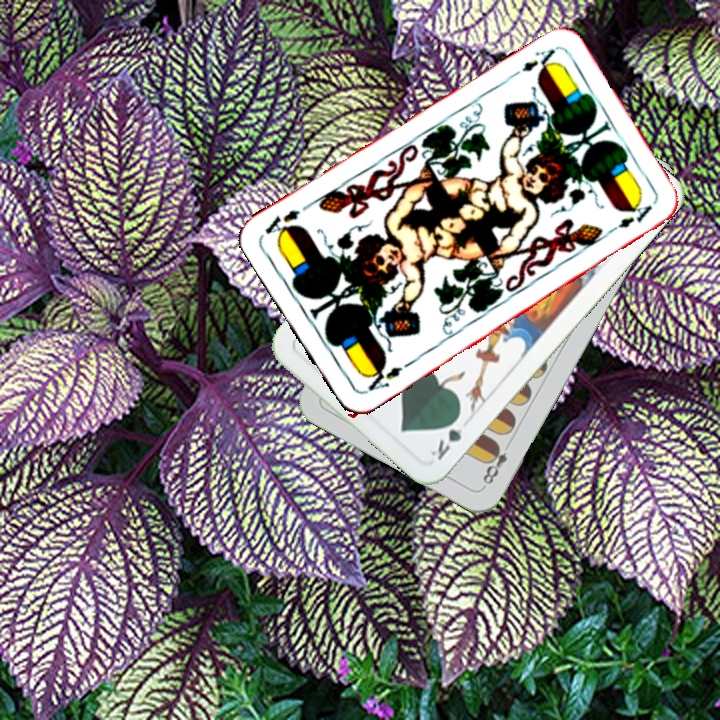E8: (478, 437, 515, 490)
EA: (505, 44, 560, 81), (360, 361, 405, 396)
GK: (426, 410, 467, 464)
